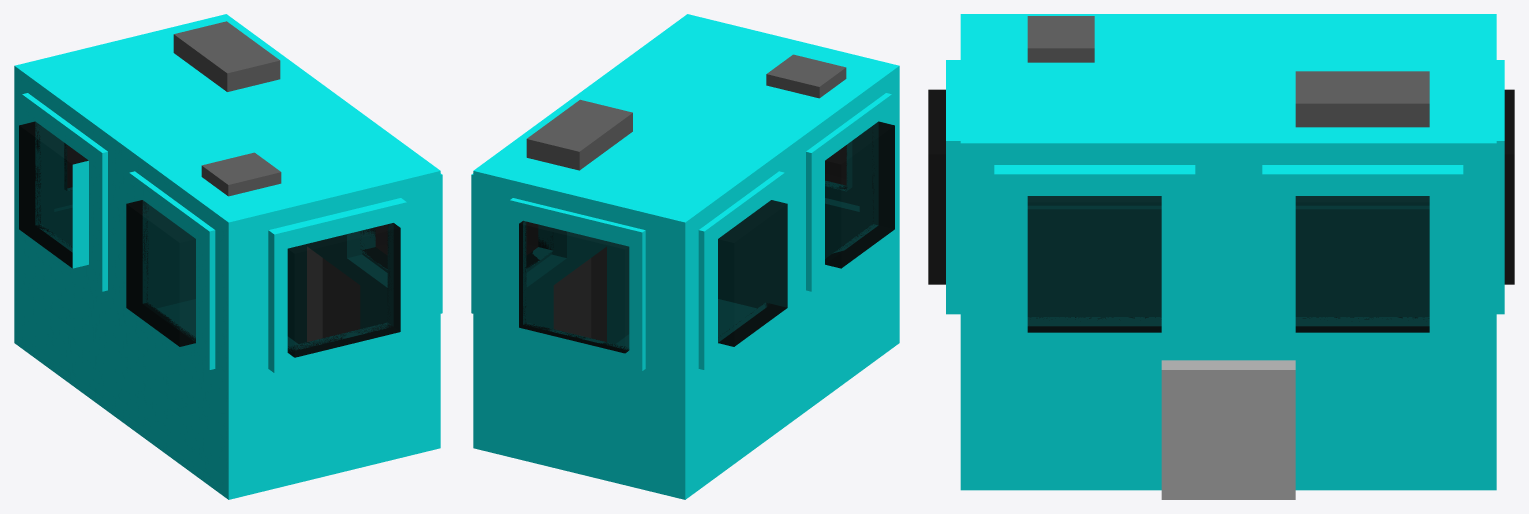
File: SmallHouseCube1.fbx
3 views of the same model, side by side, from view 1: azimuth 30°, elevation 25°; view 2: azimuth 150°, elevation 25°; view 3: azimuth 270°, elevation 25° (orthographic). The views are drawn at different scales.
Visible parts, largest first — view 1: pCube2; view 2: pCube2; view 3: pCube2.
Part boxes in pixels (left/top/right/bottom): pCube2: left=14, top=14, right=442, bottom=499; pCube2: left=471, top=14, right=899, bottom=499; pCube2: left=928, top=14, right=1514, bottom=499.
Bounding box in the file's own units: 0.49 × 0.5339 × 0.7657.
